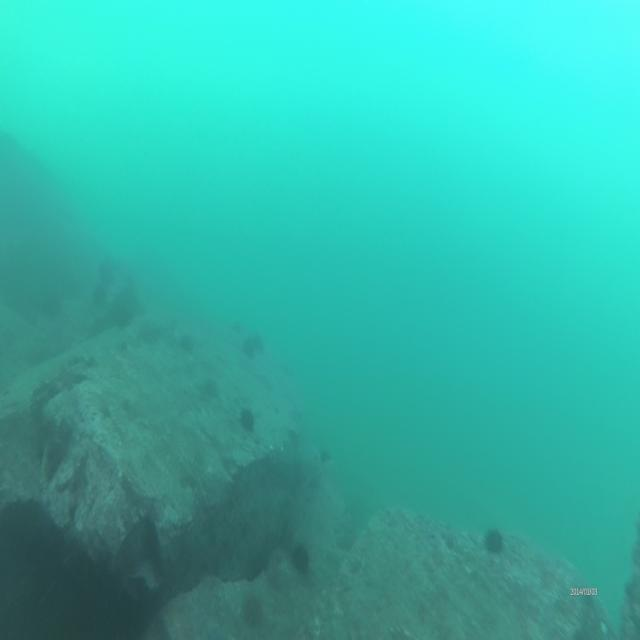echinus: (237, 582, 264, 631), (290, 537, 314, 576), (481, 523, 505, 554), (238, 401, 255, 436)
